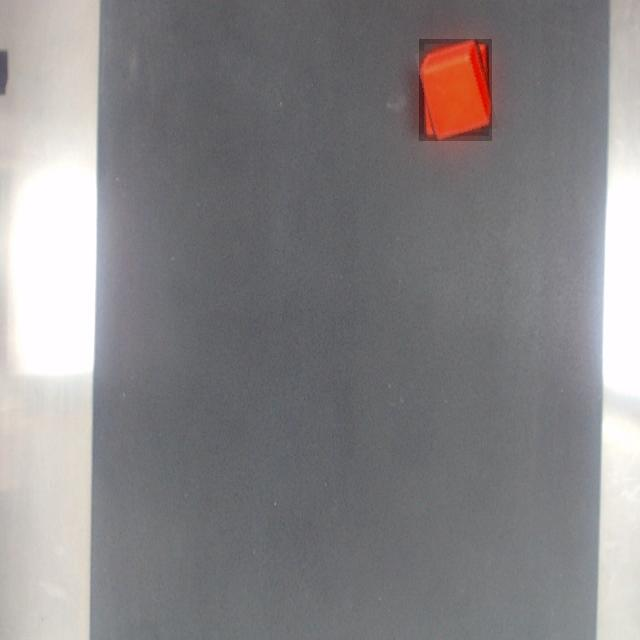Rojo: (419, 40, 492, 141)
